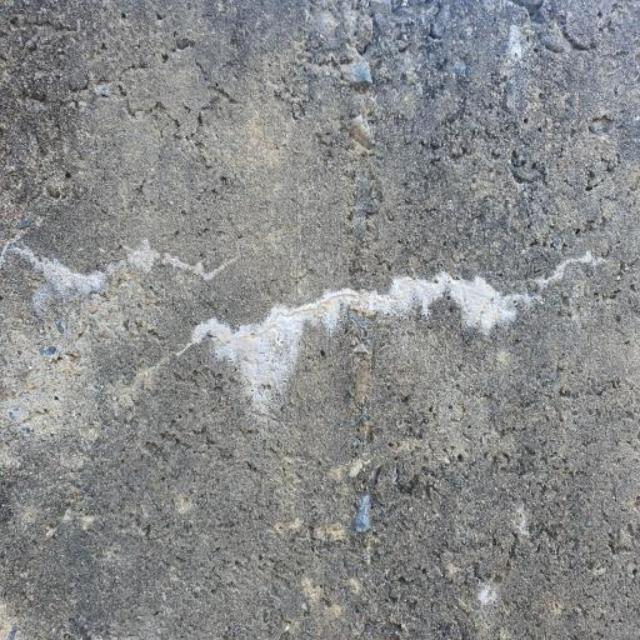D01: (190, 274, 525, 405), (2, 242, 221, 291)
